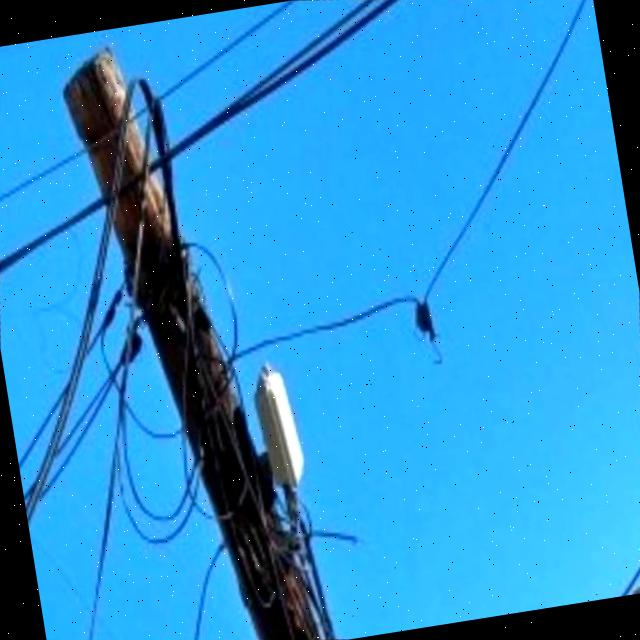Broken Pole: (63, 49, 337, 640)
